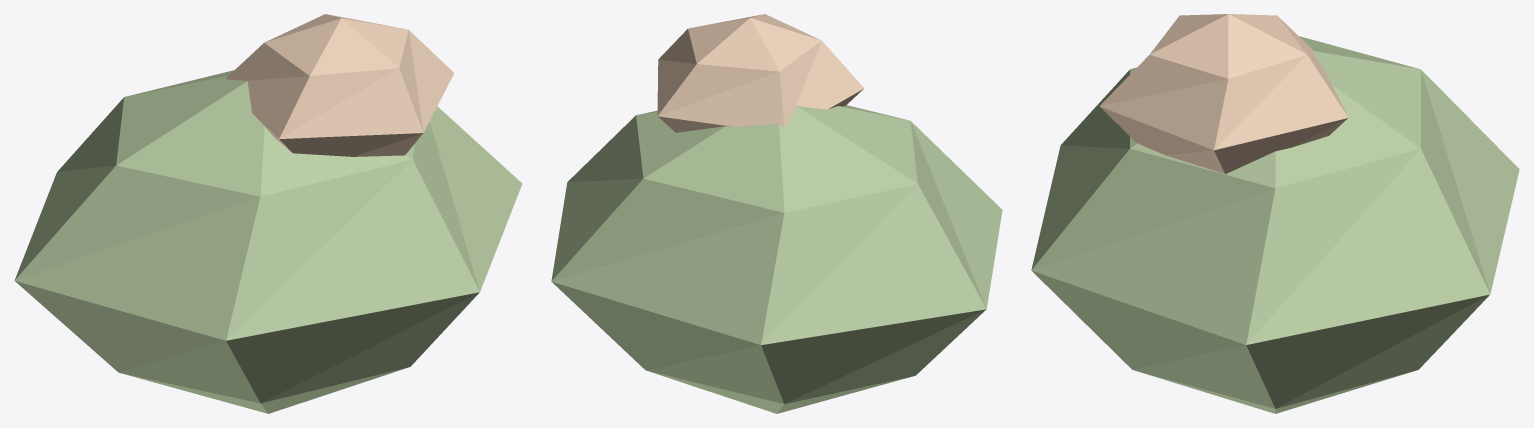
Rendered from shrub-flowering.glb.
3 renders of one model, left to right at view 1: azimuth 30°, elevation 25°; view 2: azimuth 150°, elevation 25°; view 3: azimuth 270°, elevation 25°, orthographic. The views are drawn at different scales.
Visible parts, largest first — view 1: shrub-flowering; view 2: shrub-flowering; view 3: shrub-flowering.
Boxes of the visible parts, x1,y1,x2,y2 form: shrub-flowering: [14, 14, 522, 413]; shrub-flowering: [551, 14, 1002, 413]; shrub-flowering: [1031, 14, 1519, 413].
Size of the model in its own units: 1.89 by 1.5 by 1.56.
